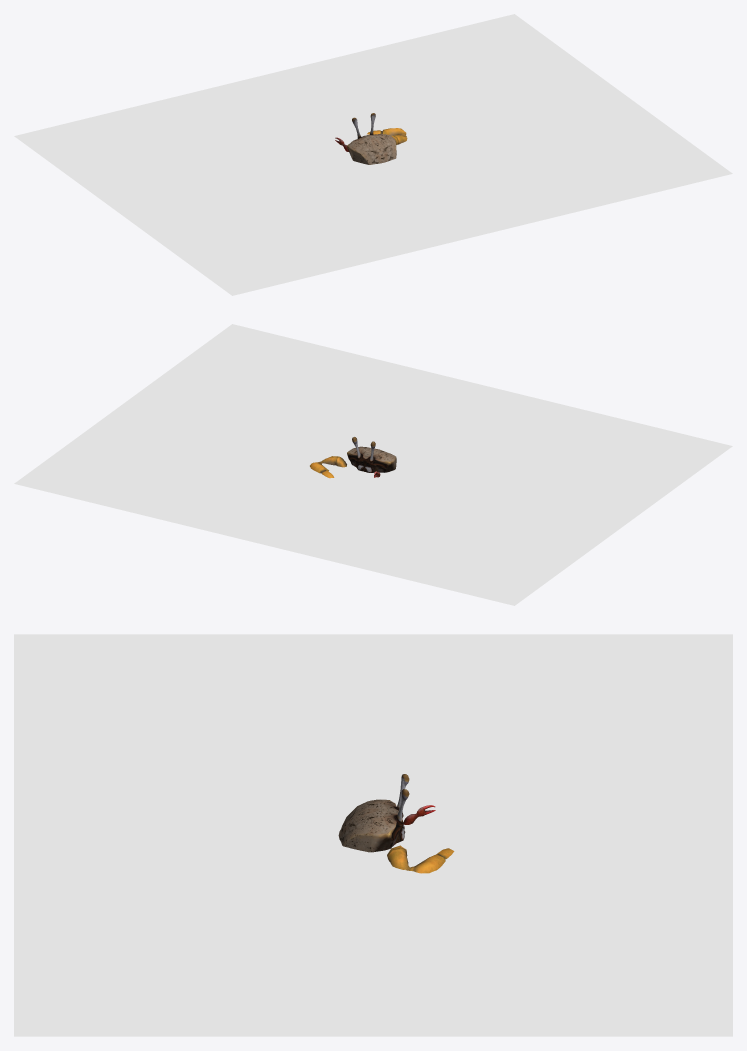
Rendered from dancing-crab---uca-mjoebergi-280863.glb.
3 views of the same model, one above another, from view 1: azimuth 30°, elevation 25°; view 2: azimuth 150°, elevation 25°; view 3: azimuth 270°, elevation 25° (orthographic). The views are drawn at different scales.
Parts seen in each view (by area): view 1: PropMesh; view 2: PropMesh; view 3: PropMesh.
Boxes of the visible parts, x1,y1,x2,y2 form: PropMesh: (14,14,732,295); PropMesh: (14,324,732,605); PropMesh: (14,634,732,1036).
Size of the model in its own units: 12.78 by 2.2 by 9.65.
2 materials, 2 textured.
